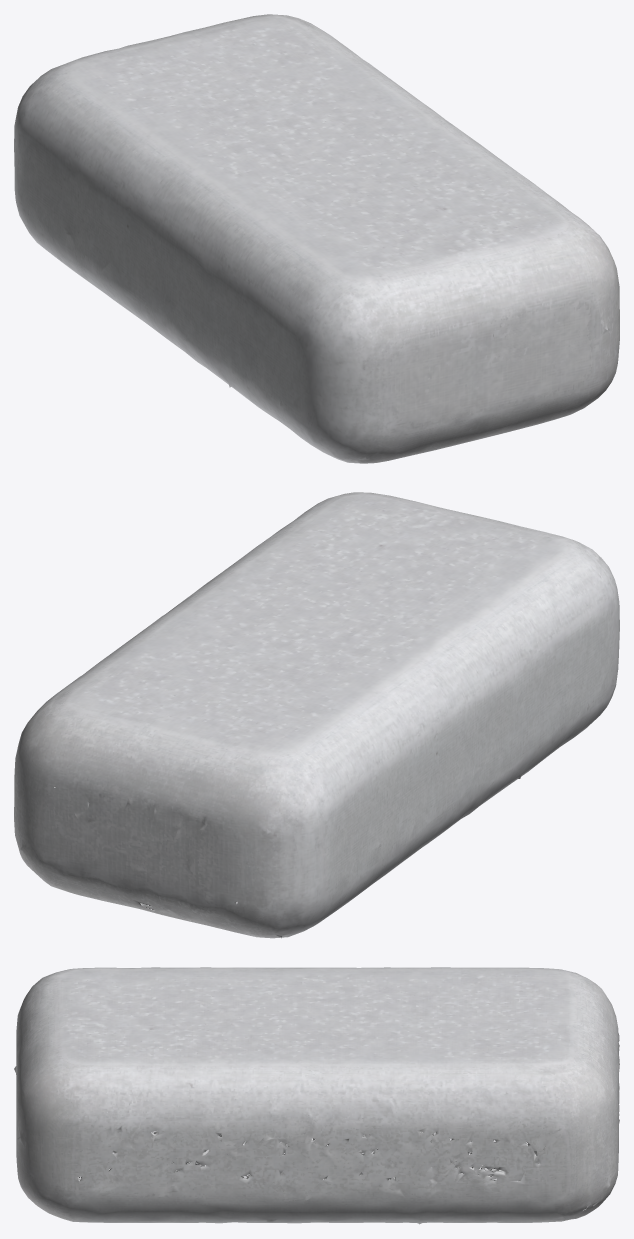
Rendered from computerlab_WhiteboardEraser.glb.
The picture shows the model from 3 angles, top to bottom: view 1: azimuth 30°, elevation 25°; view 2: azimuth 150°, elevation 25°; view 3: azimuth 270°, elevation 25°; orthographic projection. The views are drawn at different scales.
Visible parts, largest first — view 1: world; view 2: world; view 3: world.
Part boxes in pixels (x1,y1,x2,y2): world: [14, 14, 619, 463]; world: [14, 492, 619, 938]; world: [14, 967, 619, 1224].
Size of the model in its own units: 0.5047 by 0.2816 by 0.9755.
Materials: 1 (1 with a texture image).
